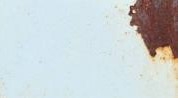Corrosion: (127, 1, 178, 62)
